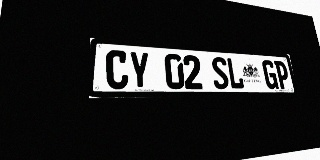0: (164, 53, 185, 89)
2: (182, 55, 203, 89)
C: (106, 50, 129, 89)
G: (261, 60, 279, 89)
L: (226, 58, 245, 89)
P: (274, 61, 291, 89)
S: (211, 56, 230, 89)
Y: (129, 51, 150, 89)
